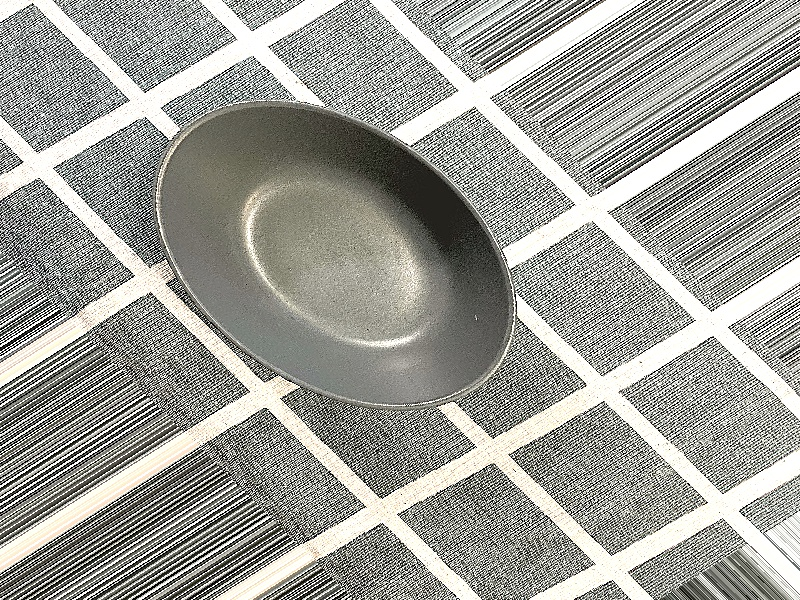bowl_big: (51, 24, 600, 478)
